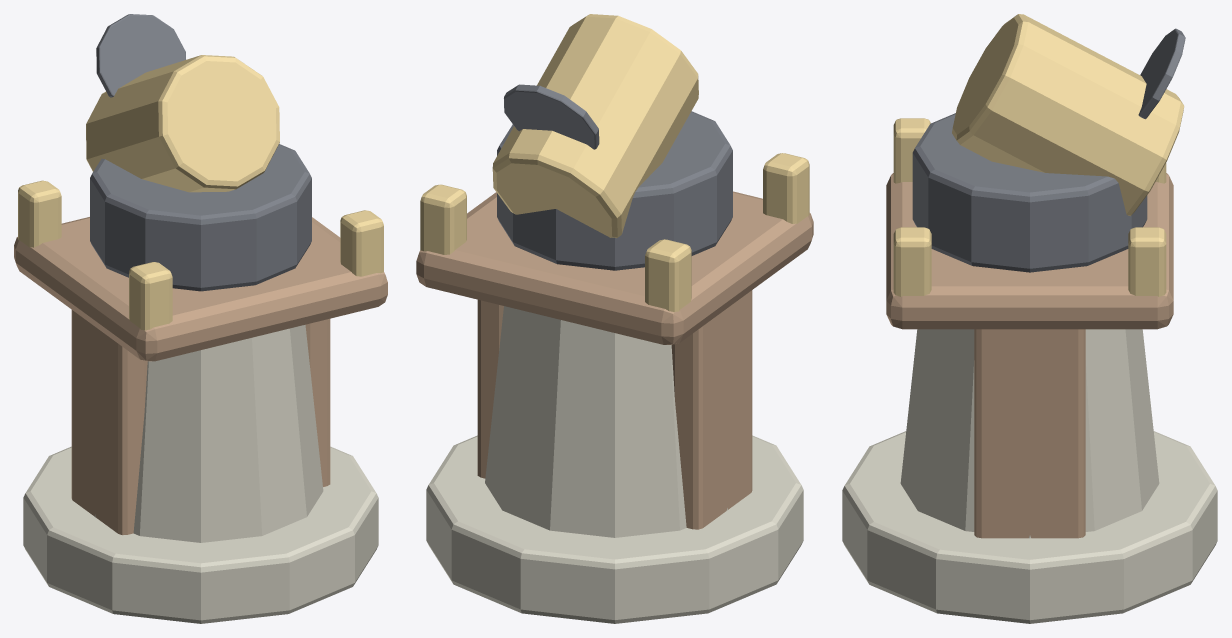
File: tower_mortar.glb
3 renders of one model, left to right at view 1: azimuth 30°, elevation 25°; view 2: azimuth 150°, elevation 25°; view 3: azimuth 270°, elevation 25°, orthographic. The views are drawn at different scales.
Visible parts, largest first — view 1: Sculpt__Limestone, Sculpt__Honey oak, Sculpt__Leather and sockets, Sculpt_Turret_Hammered brass, Sculpt__Hammered brass, Sculpt_Turret_Leather and sockets; view 2: Sculpt__Limestone, Sculpt__Honey oak, Sculpt_Turret_Hammered brass, Sculpt__Leather and sockets, Sculpt__Hammered brass, Sculpt_Turret_Leather and sockets; view 3: Sculpt__Limestone, Sculpt__Honey oak, Sculpt_Turret_Hammered brass, Sculpt__Leather and sockets, Sculpt__Hammered brass, Sculpt_Turret_Leather and sockets.
Boxes of the visible parts, x1,y1,x2,y2 form: Sculpt__Limestone: [23, 325, 378, 623]; Sculpt__Honey oak: [14, 217, 387, 535]; Sculpt__Leather and sockets: [90, 144, 311, 291]; Sculpt_Turret_Hammered brass: [86, 55, 279, 192]; Sculpt__Hammered brass: [18, 180, 383, 330]; Sculpt_Turret_Leather and sockets: [96, 14, 185, 97]; Sculpt__Limestone: [426, 306, 803, 623]; Sculpt__Honey oak: [416, 191, 813, 529]; Sculpt_Turret_Hammered brass: [492, 14, 698, 238]; Sculpt__Leather and sockets: [497, 111, 732, 270]; Sculpt__Hammered brass: [420, 153, 809, 312]; Sculpt_Turret_Leather and sockets: [504, 84, 599, 149]; Sculpt__Limestone: [842, 329, 1217, 623]; Sculpt__Honey oak: [886, 173, 1173, 538]; Sculpt_Turret_Hammered brass: [952, 14, 1184, 215]; Sculpt__Leather and sockets: [912, 113, 1147, 272]; Sculpt__Hammered brass: [893, 118, 1166, 296]; Sculpt_Turret_Leather and sockets: [1138, 28, 1185, 119].
Size of the model in its own units: 1.28 by 1.98 by 1.28.
